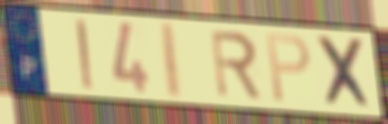4: (109, 18, 151, 98)
I: (161, 19, 185, 102), (73, 17, 98, 93)
P: (264, 32, 313, 106)
R: (208, 29, 265, 102)
X: (313, 34, 377, 112)
